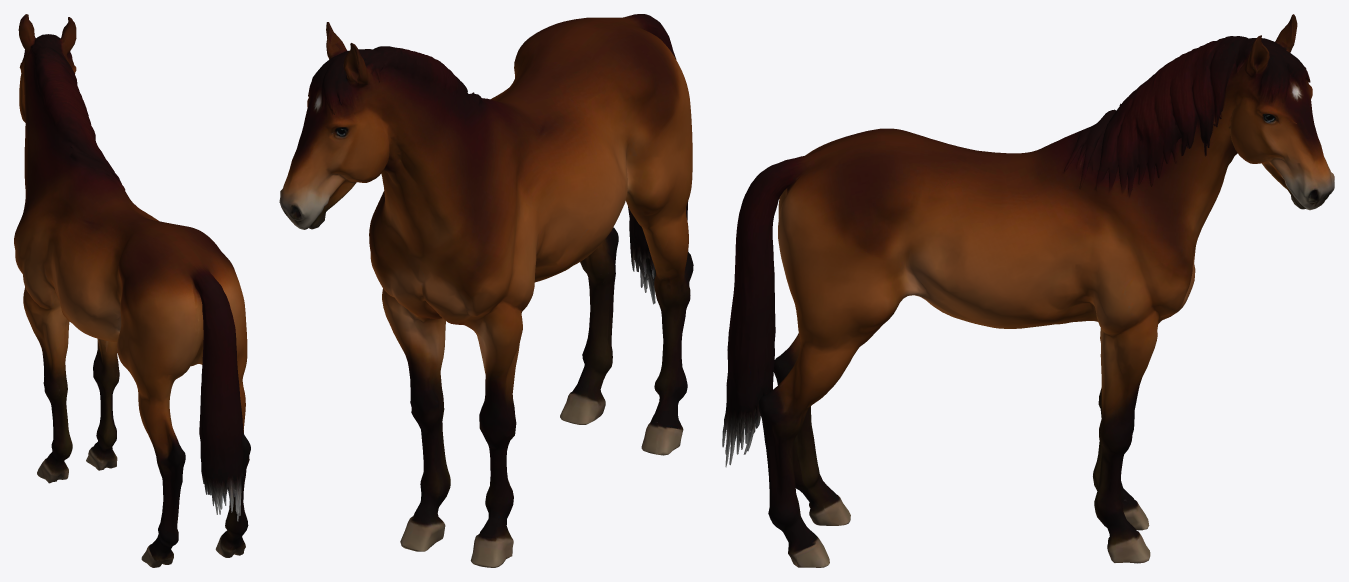
Rendered from horse-standing.glb.
3 views of the same model, side by side, from view 1: azimuth 30°, elevation 25°; view 2: azimuth 150°, elevation 25°; view 3: azimuth 270°, elevation 25° (orthographic). The views are drawn at different scales.
Parts seen in each view (by area): view 1: tripo_node_da846c42-b855-47f7-b039-74ac07ce66b6; view 2: tripo_node_da846c42-b855-47f7-b039-74ac07ce66b6; view 3: tripo_node_da846c42-b855-47f7-b039-74ac07ce66b6.
Part boxes in pixels (x1,y1,x2,y2): tripo_node_da846c42-b855-47f7-b039-74ac07ce66b6: (14,14,250,567); tripo_node_da846c42-b855-47f7-b039-74ac07ce66b6: (279,14,693,567); tripo_node_da846c42-b855-47f7-b039-74ac07ce66b6: (722,14,1334,567).
Bounding box in the file's own units: 0.4891 × 1.6 × 1.66.
Materials: 1 (1 with a texture image).
